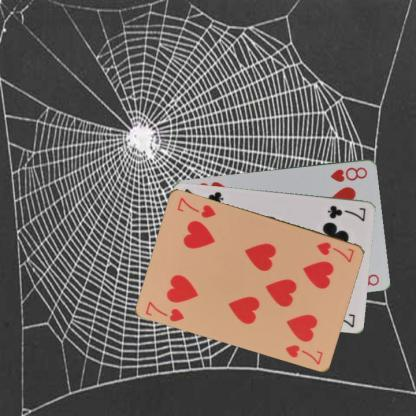7c: (326, 202, 368, 223)
7h: (314, 239, 356, 264), (144, 298, 186, 323)
8h: (328, 164, 369, 183)
